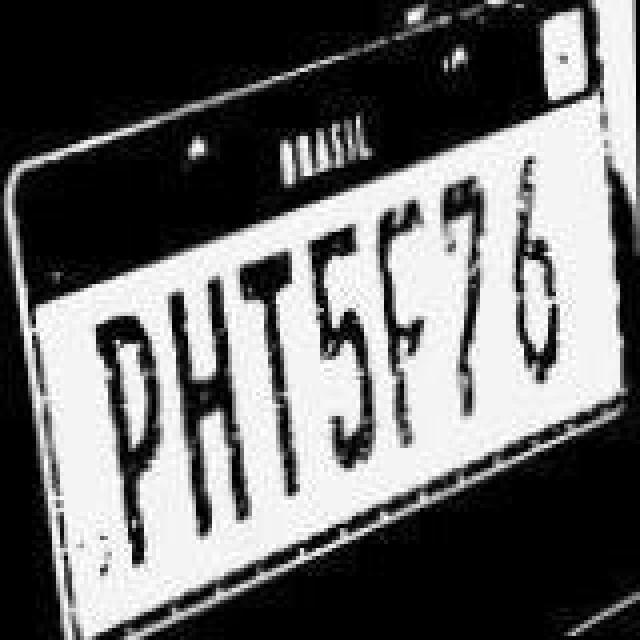5: (304, 212, 384, 484)
6: (498, 138, 574, 398)
7: (432, 172, 496, 440)
F: (370, 186, 438, 450)
H: (164, 260, 256, 544)
P: (84, 294, 168, 578)
T: (234, 244, 310, 492)
